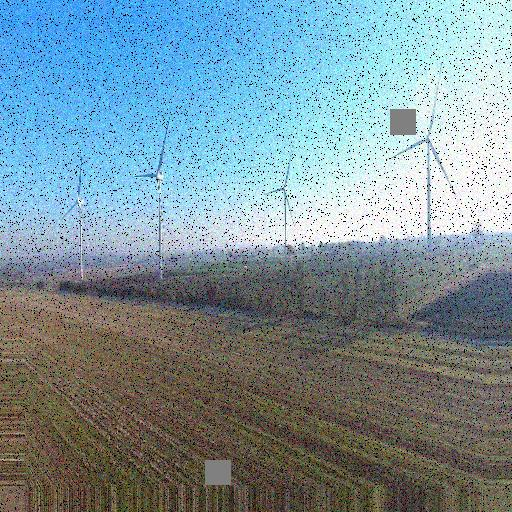wind turbine: (385, 83, 456, 246), (134, 119, 173, 279), (59, 158, 97, 277), (264, 155, 296, 249)
